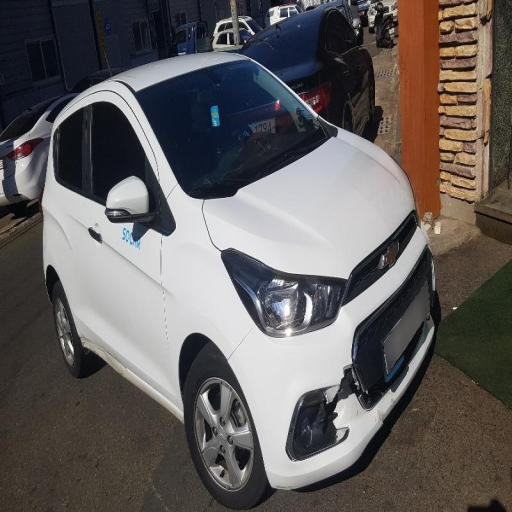broken: (246, 312, 392, 482)
